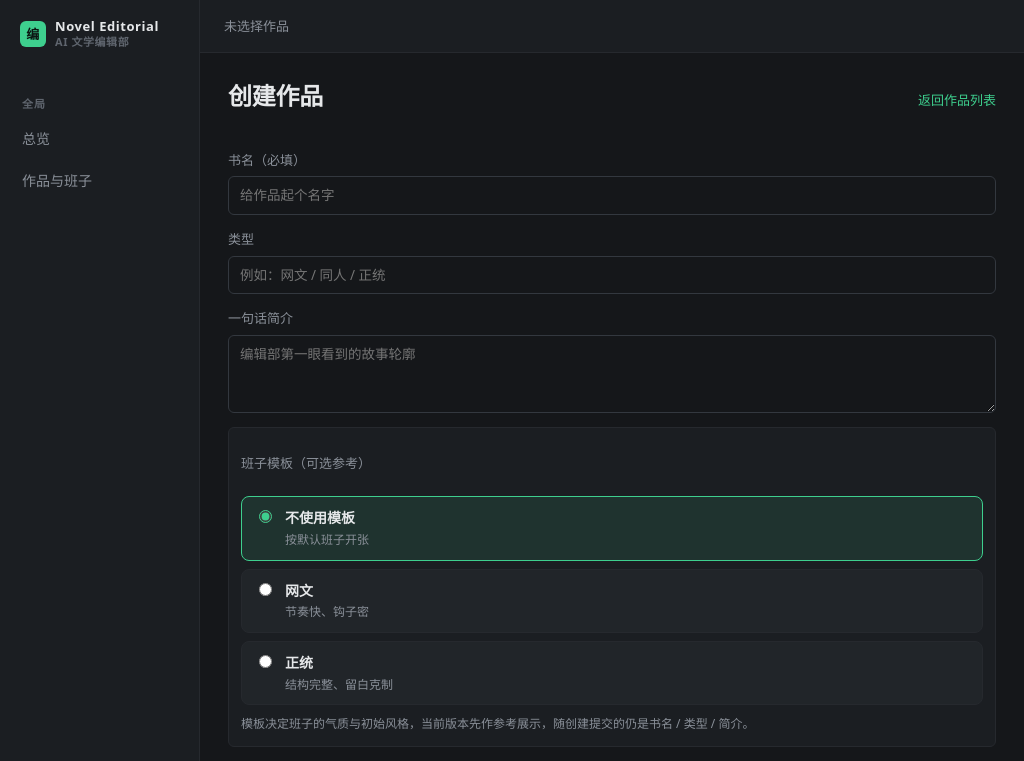
Test: works create page › renders the form with templates as selectable references
This screenshot has width=1024, height=761.
Expected: the heading "创建作品" is shown, [228, 77, 323, 114]
Expected: the text "网文" is shown, [285, 581, 313, 600]
Click the radio button labelled "网文 节奏快、钩子密" at (266, 589), box [259, 583, 272, 596]
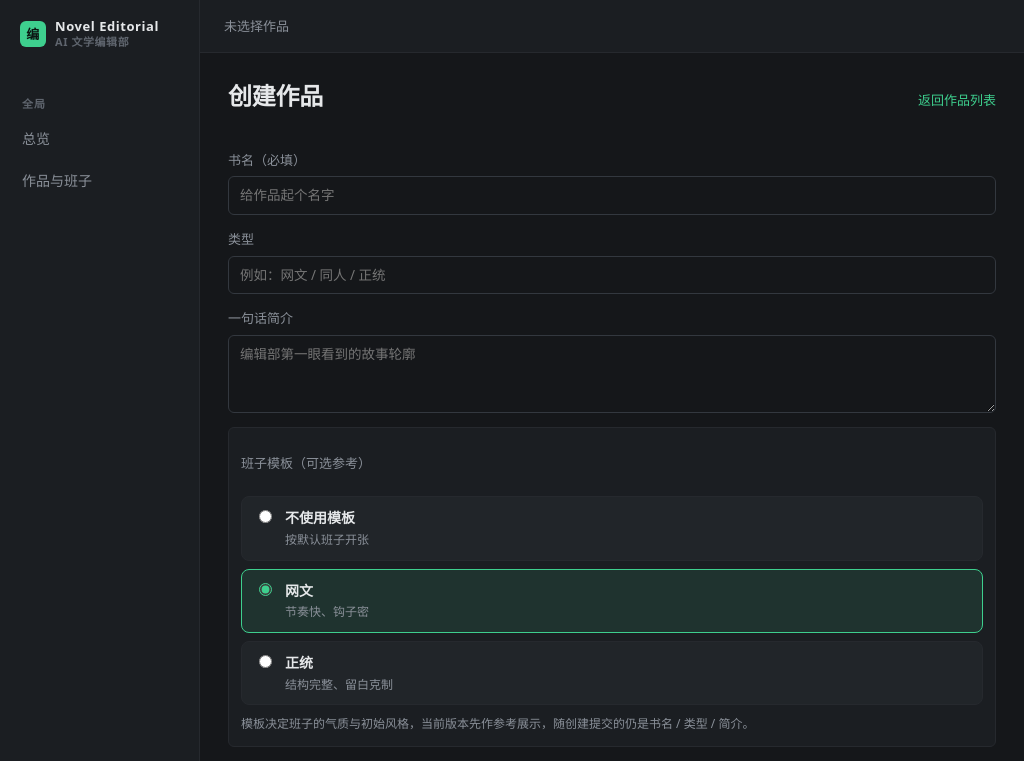
Now the radio button labelled "网文 节奏快、钩子密" is checked, box [259, 583, 272, 596]
Now the radio button labelled "不使用模板 按默认班子开张" is not checked, box [259, 510, 272, 524]
